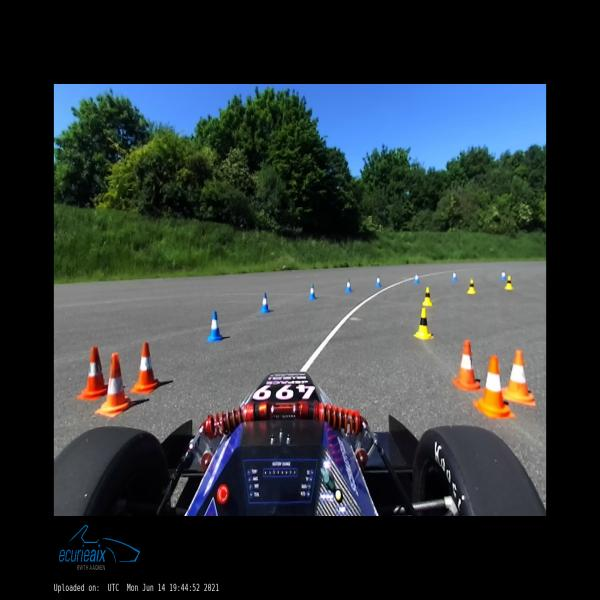blue_cone: (206, 311, 224, 341), (260, 293, 270, 313), (308, 284, 316, 299), (345, 279, 352, 292), (375, 275, 381, 287), (451, 271, 457, 281), (501, 270, 506, 280), (414, 273, 419, 283)
orange_cone: (473, 356, 515, 419), (95, 352, 135, 418), (502, 351, 536, 406), (77, 346, 108, 400), (452, 340, 484, 392), (130, 342, 161, 393)
yellow_cone: (414, 308, 434, 340), (422, 287, 433, 305), (467, 278, 476, 294), (505, 275, 514, 290)
